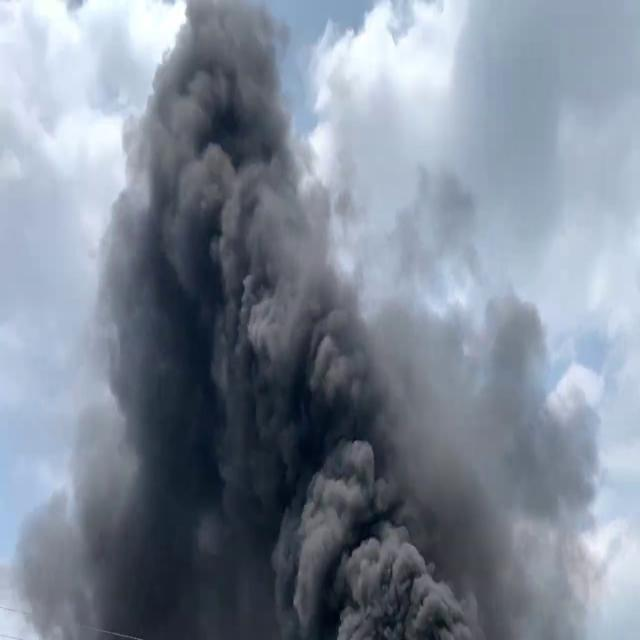Smoke: (24, 0, 596, 636)
